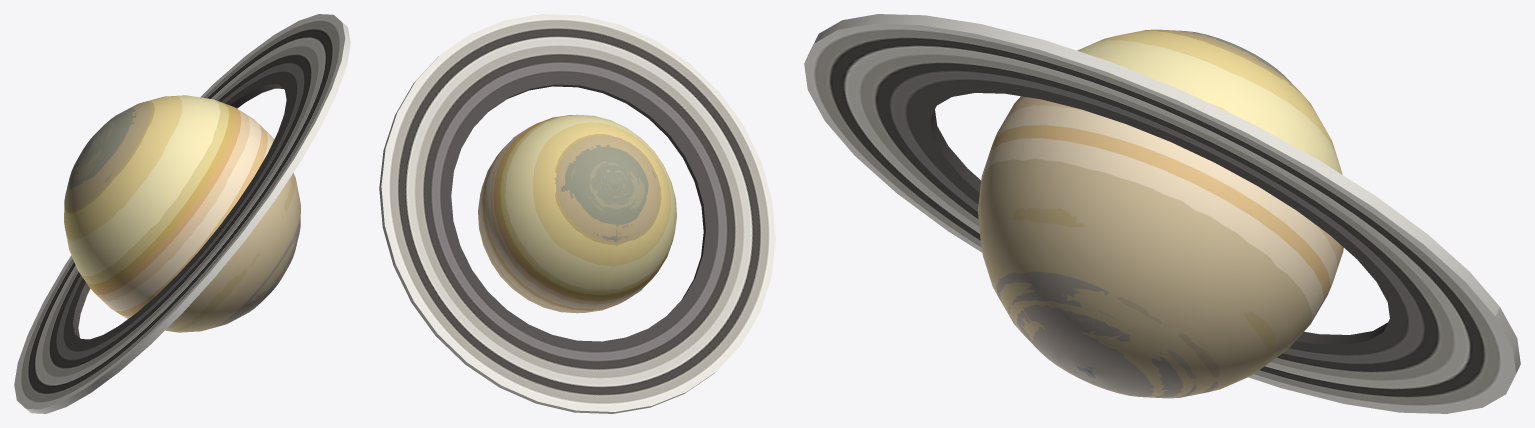
Rendered from saturn.glb.
3 views of the same model, side by side, from view 1: azimuth 30°, elevation 25°; view 2: azimuth 150°, elevation 25°; view 3: azimuth 270°, elevation 25° (orthographic). The views are drawn at different scales.
Parts seen in each view (by area): view 1: Saturn; view 2: Saturn; view 3: Saturn.
Boxes of the visible parts, box(x1,y1,x2,y2) form: Saturn: box(14, 14, 350, 413); Saturn: box(379, 14, 775, 413); Saturn: box(804, 14, 1520, 413).
Size of the model in its own units: 2.01 by 1.96 by 2.37.
1 material, 1 textured.
